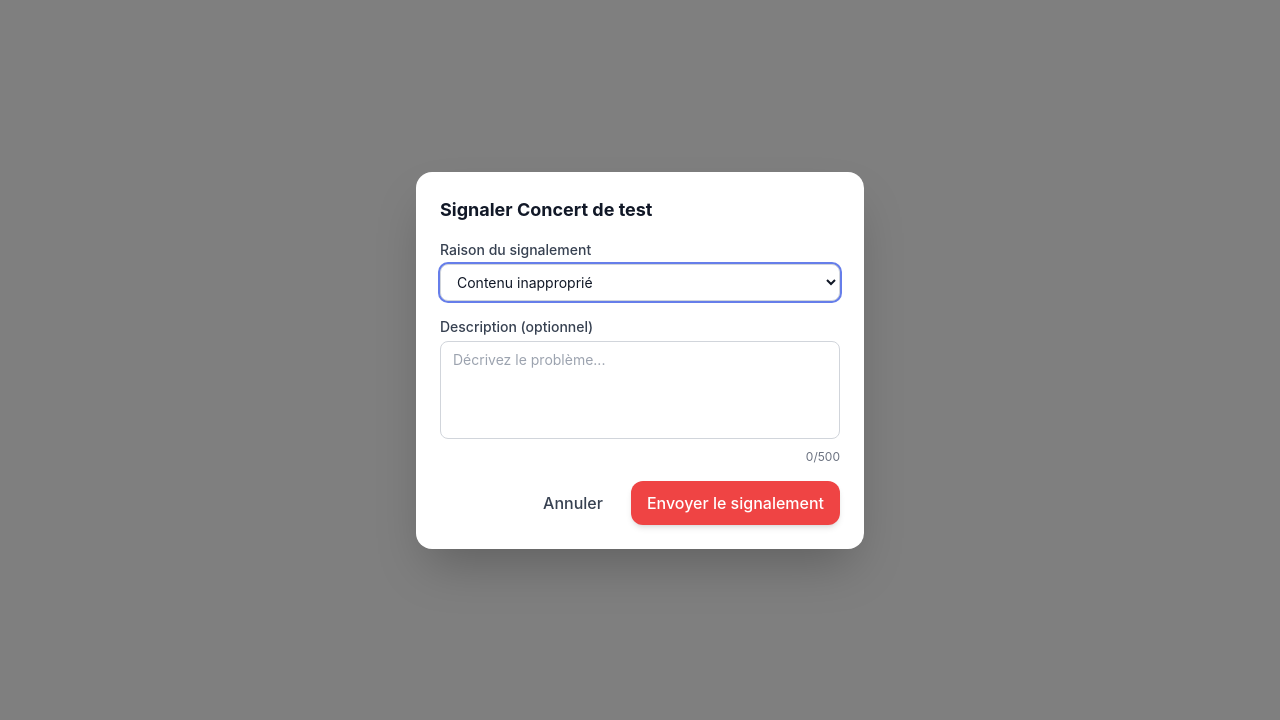
Test: ReportModal › updates the remaining character count as the description changes
The image size is (1280, 720).
Check: the text "0/500" is shown, box 806,448 -> 840,464
In the text box labelled "Description (optionnel)": (640, 390) 440,340 -> 840,438, type "abcde"
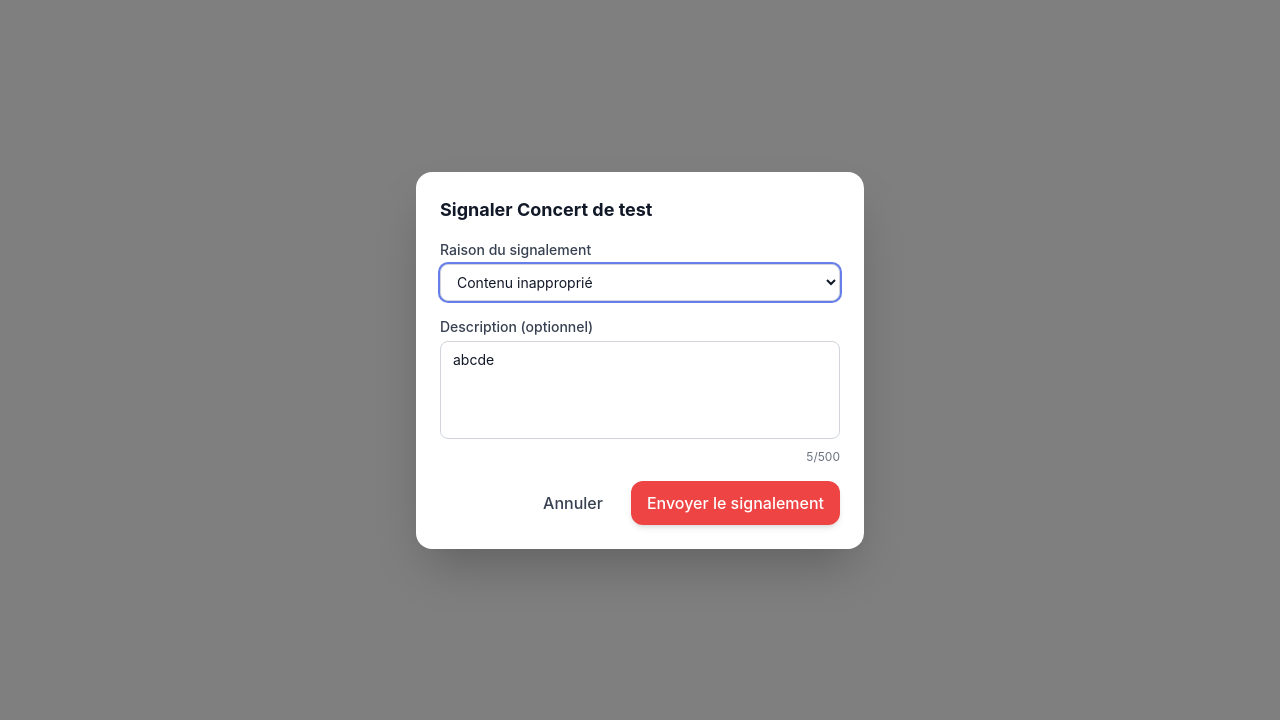
Check: the text "5/500" is shown, box 806,448 -> 840,464
